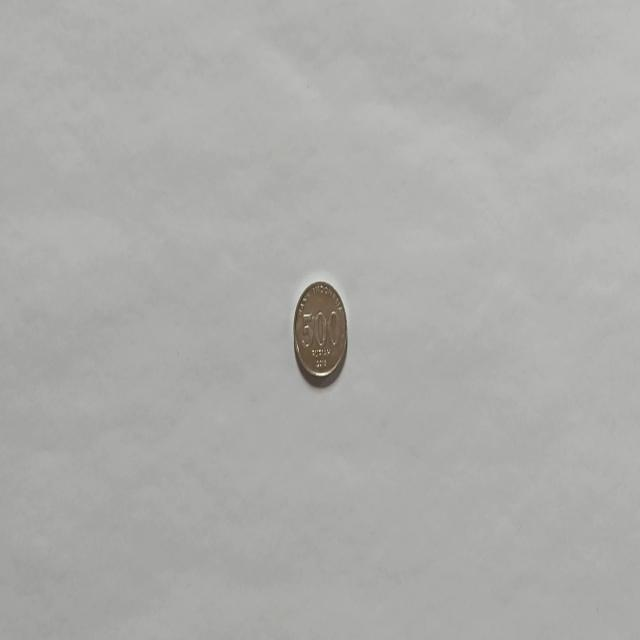lima ratus rupiah: (292, 278, 348, 388)
